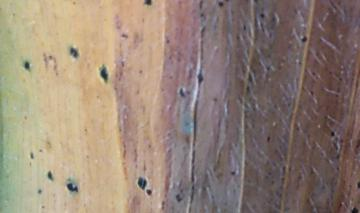tarspot: (98, 63, 109, 84), (66, 182, 79, 193), (137, 175, 147, 189), (69, 46, 79, 59), (196, 72, 204, 84), (47, 169, 54, 182), (178, 86, 186, 95), (175, 194, 183, 202), (25, 61, 32, 70), (217, 1, 226, 8), (351, 206, 360, 213), (146, 188, 153, 196), (301, 35, 308, 43), (329, 129, 336, 137), (264, 135, 272, 142), (229, 168, 236, 176), (120, 32, 128, 39), (241, 24, 248, 31), (143, 1, 152, 6), (356, 180, 360, 191), (30, 152, 35, 160), (259, 13, 265, 19), (37, 188, 42, 193)
